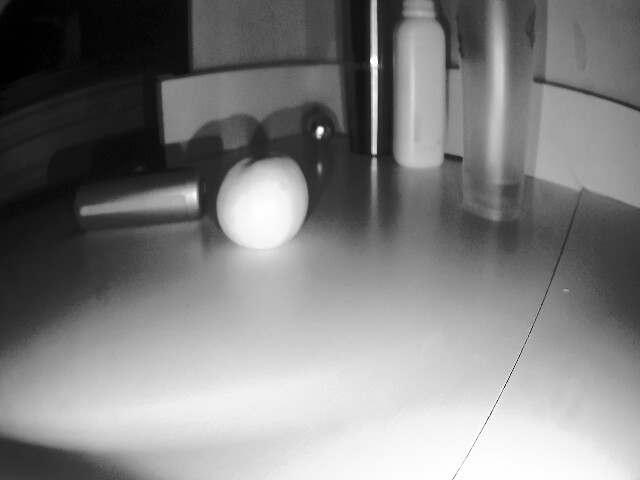silver: (301, 111, 340, 153)
